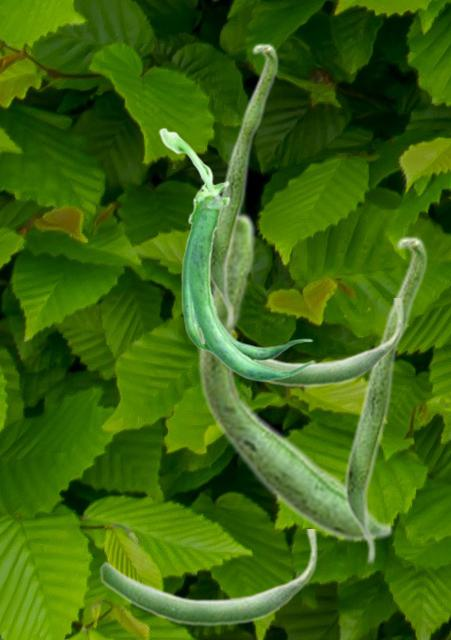french_bean: (197, 210, 393, 542), (158, 127, 314, 381), (343, 235, 427, 565), (99, 529, 317, 626), (211, 42, 278, 328), (259, 298, 403, 387)
